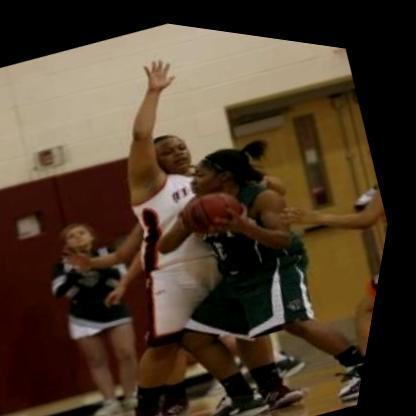basketball: (176, 170, 258, 240)
